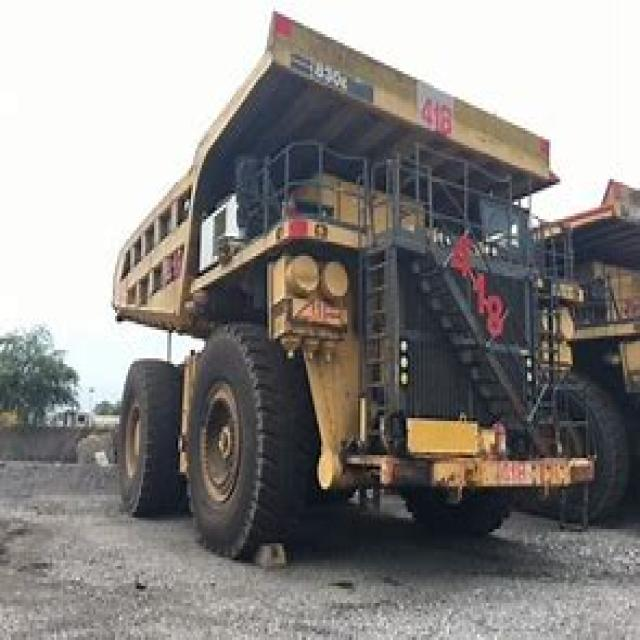dump_truck: (98, 6, 575, 560)
